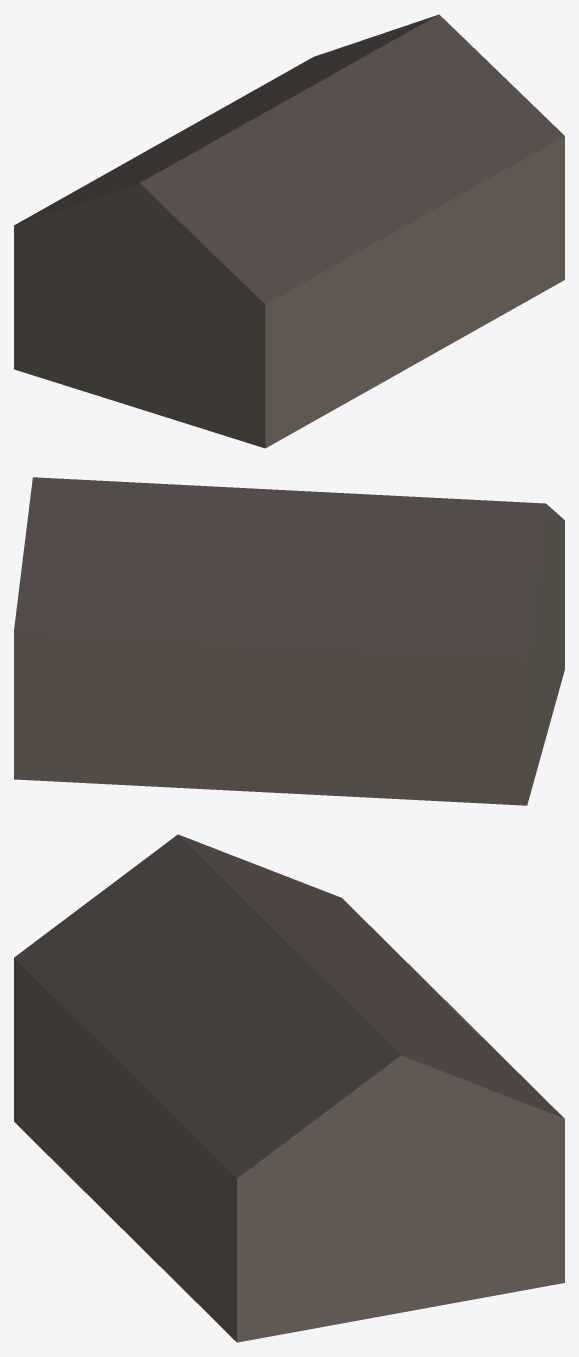
3 views of the same model, one above another, from view 1: azimuth 30°, elevation 25°; view 2: azimuth 150°, elevation 25°; view 3: azimuth 270°, elevation 25° (orthographic). The views are drawn at different scales.
Parts seen in each view (by area): view 1: HP-w369342524; view 2: HP-w369342524; view 3: HP-w369342524.
Part boxes in pixels (bbox=[...]): HP-w369342524: bbox=[14, 14, 564, 448]; HP-w369342524: bbox=[14, 477, 564, 805]; HP-w369342524: bbox=[14, 834, 564, 1342].
Bounding box in the file's own units: 22.03 × 9.42 × 18.27.
